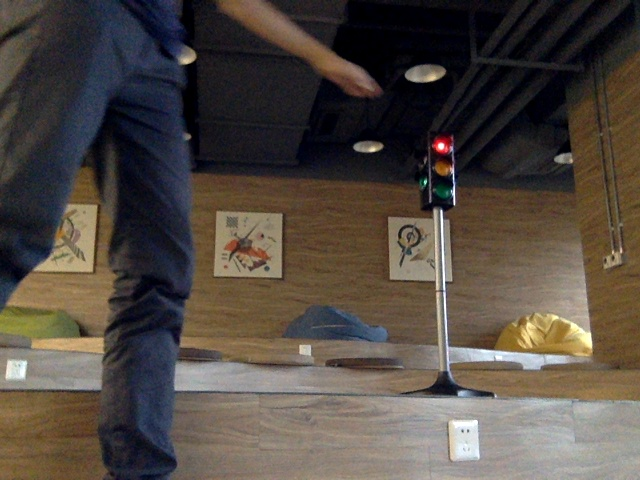red: (429, 134, 454, 199)
